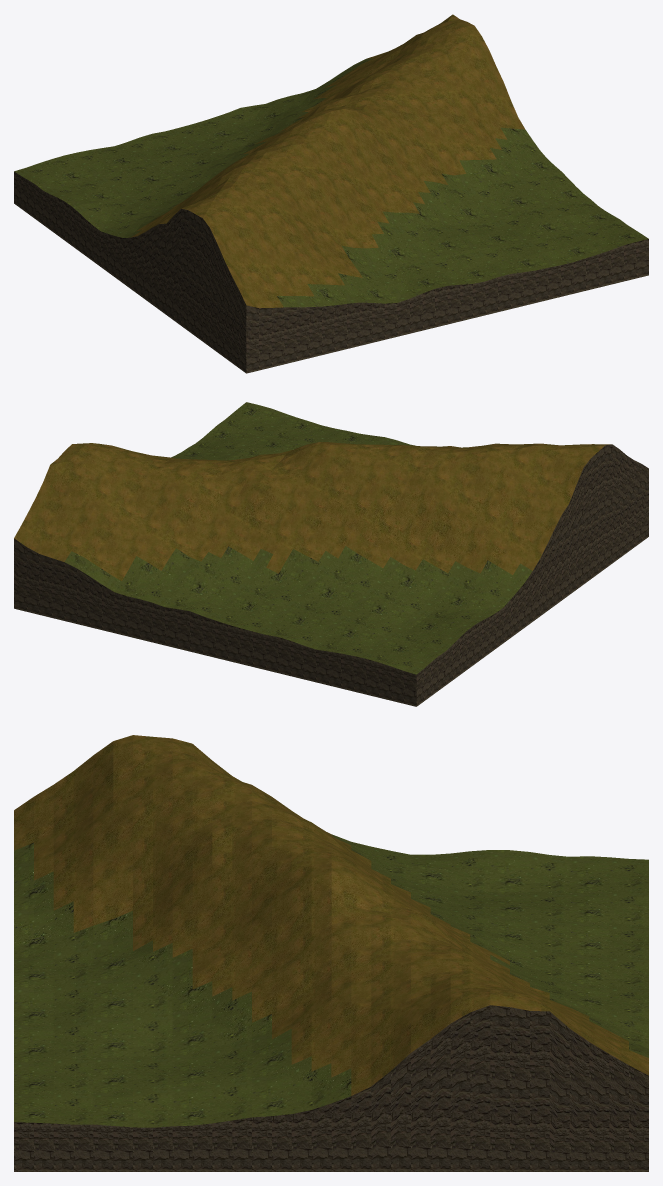
Rendered from ridge_01.glb.
3 views of the same model, one above another, from view 1: azimuth 30°, elevation 25°; view 2: azimuth 150°, elevation 25°; view 3: azimuth 270°, elevation 25° (orthographic). The views are drawn at different scales.
Visible parts, largest first — view 1: ridge_01; view 2: ridge_01; view 3: ridge_01.
Part boxes in pixels (x1=…): ridge_01: x1=14, y1=14, x2=648, y2=373; ridge_01: x1=14, y1=402, x2=648, y2=706; ridge_01: x1=14, y1=735, x2=648, y2=1171.
Size of the model in its own units: 16 by 4.87 by 16.
Materials: 3 (3 with a texture image).
